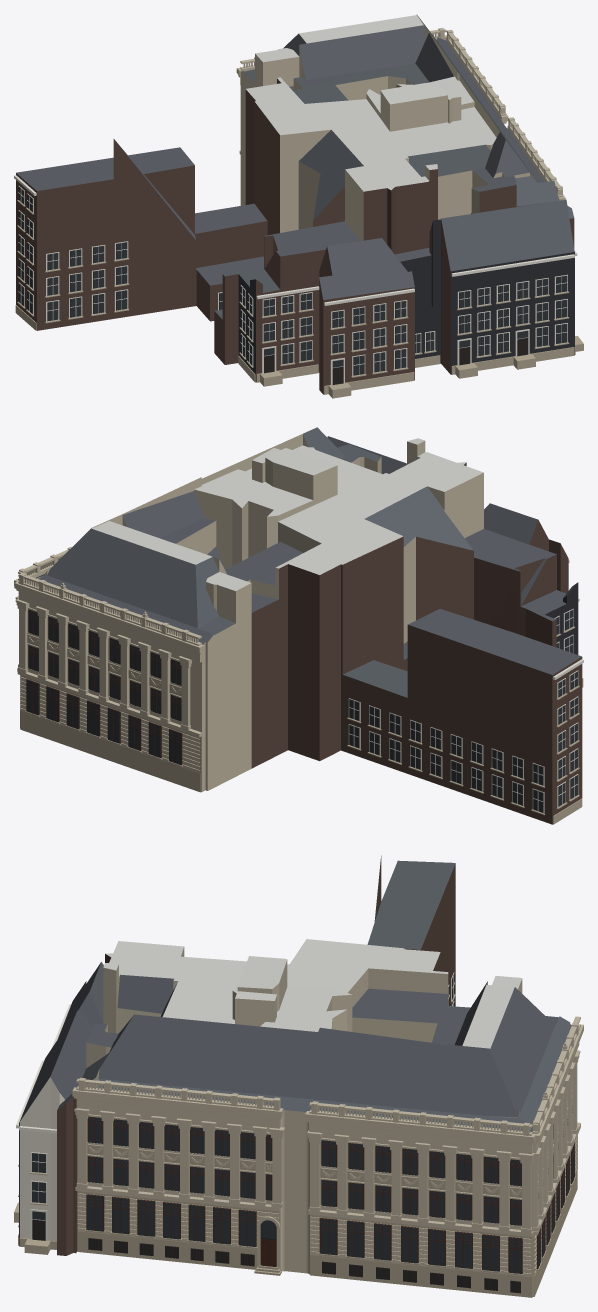
The model's file is handelsbank-singel-250.glb.
3 views of the same model, one above another, from view 1: azimuth 30°, elevation 25°; view 2: azimuth 150°, elevation 25°; view 3: azimuth 270°, elevation 25° (orthographic). The views are drawn at different scales.
Parts seen in each view (by area): view 1: handelsbank-singel-250; view 2: handelsbank-singel-250; view 3: handelsbank-singel-250.
Part boxes in pixels (<box>): handelsbank-singel-250: <box>14,14,583,398</box>; handelsbank-singel-250: <box>14,427,583,824</box>; handelsbank-singel-250: <box>14,855,583,1297</box>.
Bounding box in the file's own units: 64.37 × 26.19 × 56.37.
